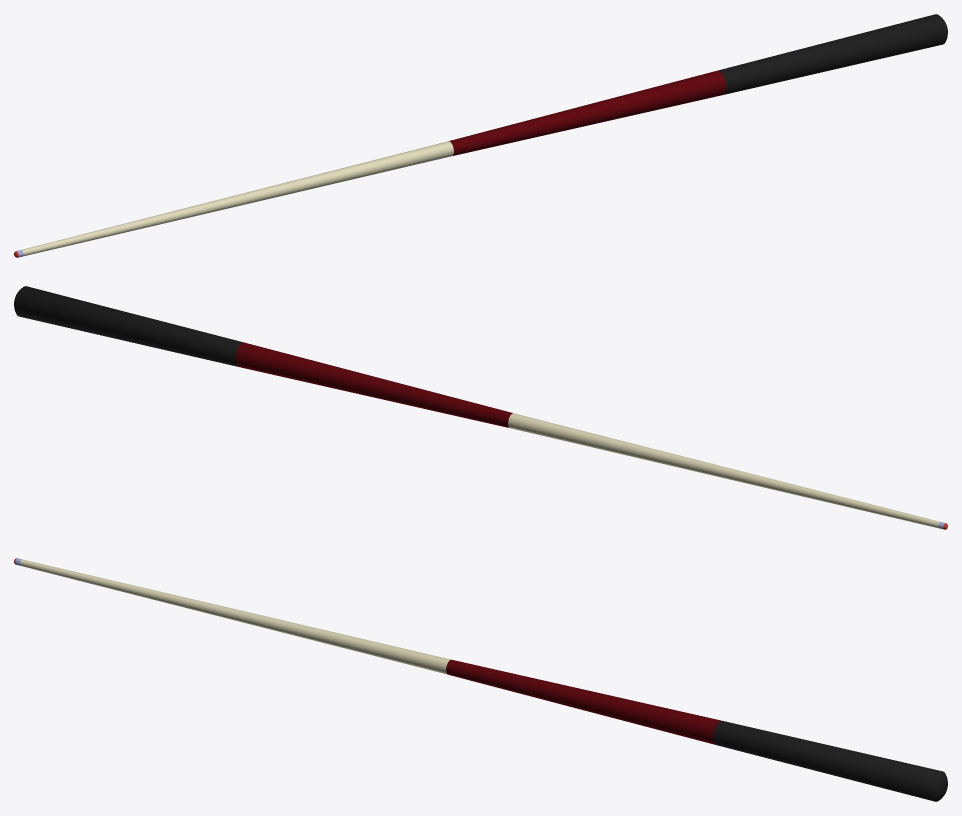
Rendered from cuestick.fbx.
3 renders of one model, top to bottom at view 1: azimuth 30°, elevation 25°; view 2: azimuth 150°, elevation 25°; view 3: azimuth 330°, elevation 25°, orthographic.
Parts seen in each view (by area): view 1: Cue_LP; view 2: Cue_LP; view 3: Cue_LP.
Part boxes in pixels (box(x1,y1,x2,y2)): Cue_LP: box(14, 14, 947, 257); Cue_LP: box(14, 286, 947, 529); Cue_LP: box(14, 558, 947, 801).
Size of the model in its own units: 1.49 by 0.0436 by 0.0436.
